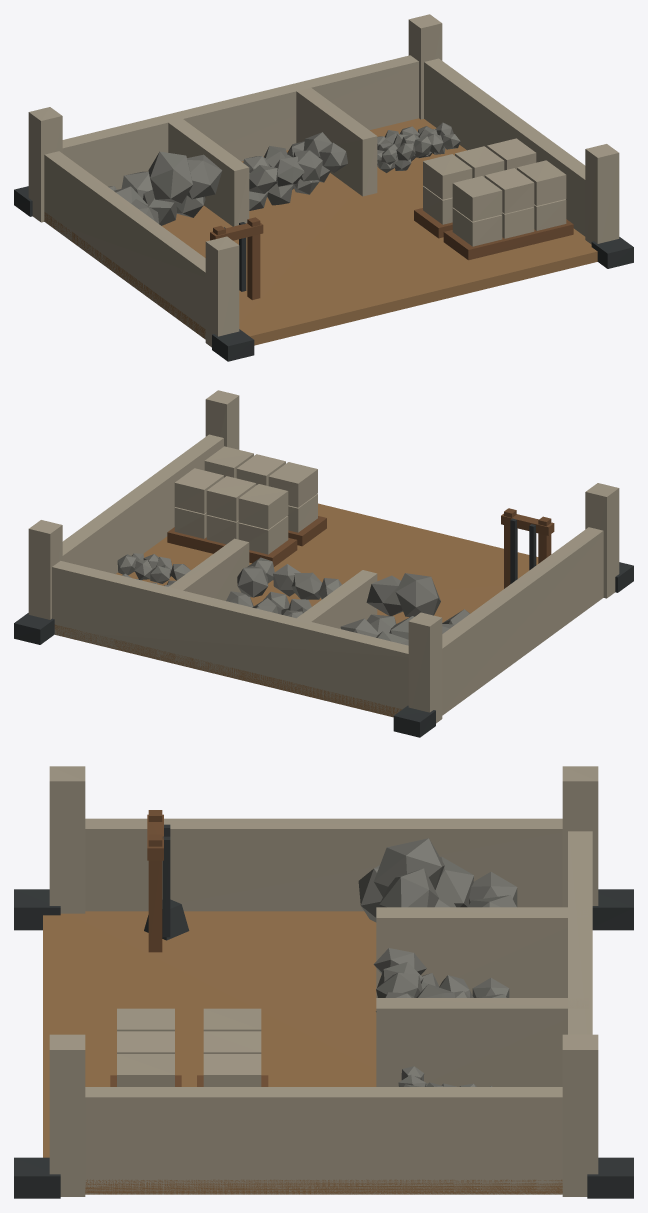
The model's file is Stone-Yard.glb.
3 renders of one model, top to bottom at view 1: azimuth 30°, elevation 25°; view 2: azimuth 150°, elevation 25°; view 3: azimuth 270°, elevation 25°, orthographic. The views are drawn at different scales.
Parts seen in each view (by area): view 1: stone-yard-static-stone-yard-dressed-stone-mat, stone-yard-static-stone-yard-compacted-earth-mat, stone-yard-static-stone-yard-quarry-stone-mat, stone-yard-static-stone-yard-weathered-timber-mat, stone-yard-static-stone-yard-dark-iron-mat; view 2: stone-yard-static-stone-yard-dressed-stone-mat, stone-yard-static-stone-yard-compacted-earth-mat, stone-yard-static-stone-yard-quarry-stone-mat, stone-yard-static-stone-yard-weathered-timber-mat, stone-yard-static-stone-yard-dark-iron-mat; view 3: stone-yard-static-stone-yard-dressed-stone-mat, stone-yard-static-stone-yard-compacted-earth-mat, stone-yard-static-stone-yard-quarry-stone-mat, stone-yard-static-stone-yard-dark-iron-mat, stone-yard-static-stone-yard-weathered-timber-mat.
Boxes of the visible parts, x1=… form: stone-yard-static-stone-yard-dressed-stone-mat: x1=28, y1=14, x2=619, y2=347; stone-yard-static-stone-yard-compacted-earth-mat: x1=44, y1=118, x2=597, y2=345; stone-yard-static-stone-yard-quarry-stone-mat: x1=108, y1=122, x2=460, y2=225; stone-yard-static-stone-yard-weathered-timber-mat: x1=210, y1=208, x2=573, y2=299; stone-yard-static-stone-yard-dark-iron-mat: x1=14, y1=186, x2=633, y2=361; stone-yard-static-stone-yard-dressed-stone-mat: x1=28, y1=390, x2=619, y2=723; stone-yard-static-stone-yard-compacted-earth-mat: x1=54, y1=503, x2=538, y2=717; stone-yard-static-stone-yard-quarry-stone-mat: x1=117, y1=553, x2=469, y2=645; stone-yard-static-stone-yard-weathered-timber-mat: x1=167, y1=508, x2=554, y2=588; stone-yard-static-stone-yard-dark-iron-mat: x1=14, y1=518, x2=633, y2=737; stone-yard-static-stone-yard-dressed-stone-mat: x1=49, y1=766, x2=598, y2=1196; stone-yard-static-stone-yard-compacted-earth-mat: x1=43, y1=911, x2=562, y2=1194; stone-yard-static-stone-yard-quarry-stone-mat: x1=358, y1=838, x2=517, y2=1086; stone-yard-static-stone-yard-dark-iron-mat: x1=14, y1=824, x2=633, y2=1198; stone-yard-static-stone-yard-weathered-timber-mat: x1=110, y1=810, x2=268, y2=1086.
Bounding box in the file's own units: 4.94 × 1.18 × 4.51.
